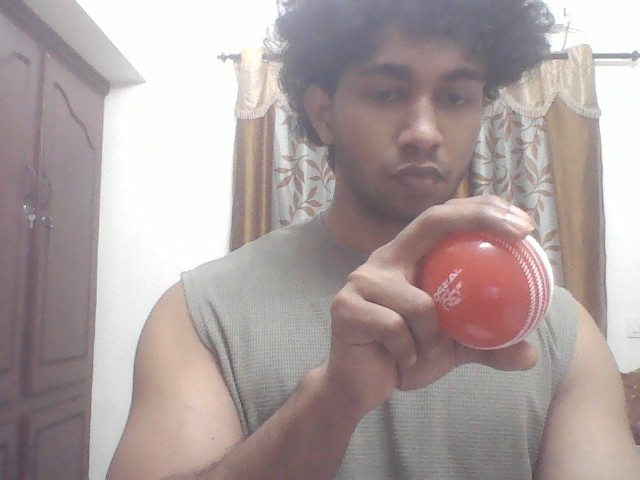cricket_ball: (422, 223, 561, 358)
